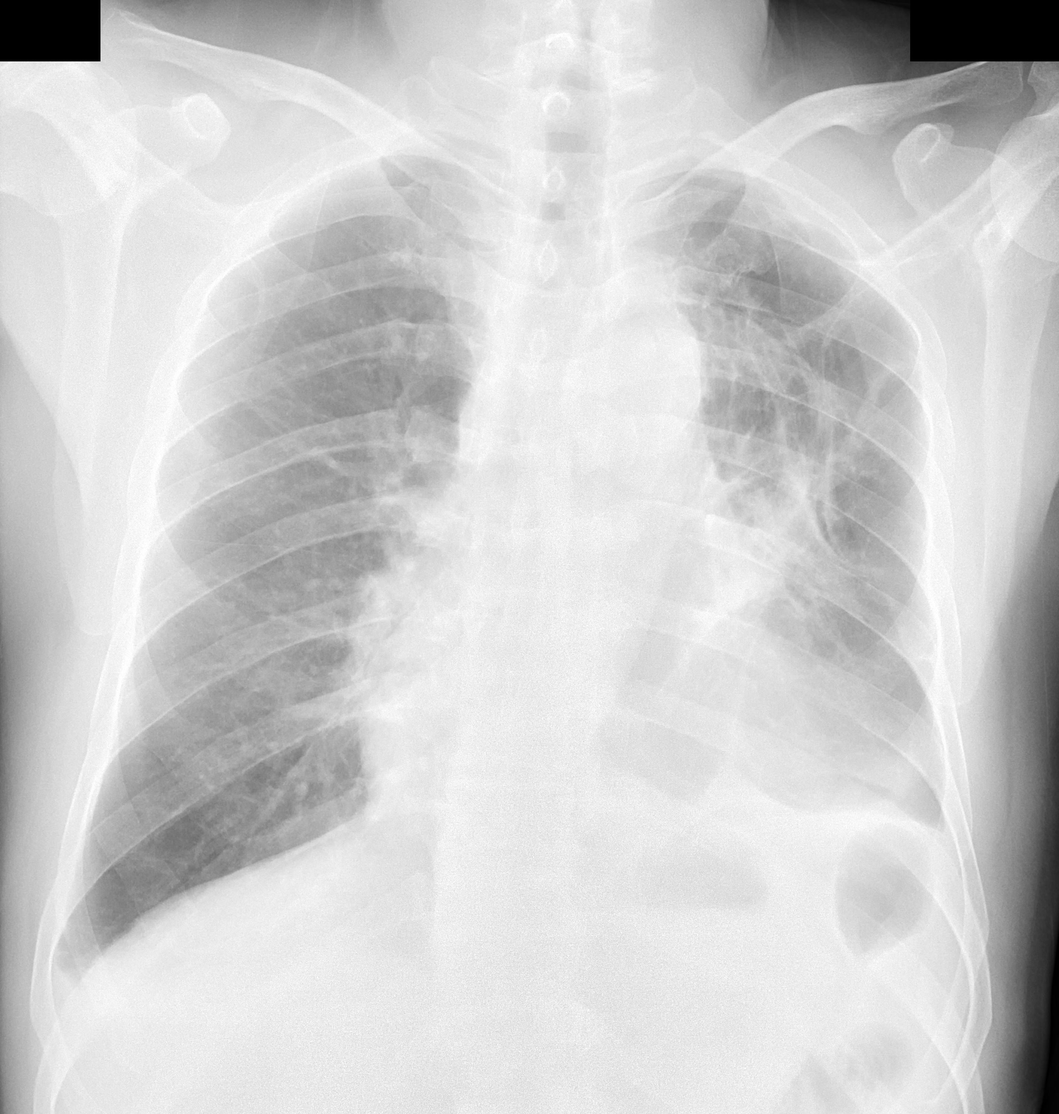Aortic enlargement: (557, 291, 705, 450)
Cardiomegaly: (354, 683, 844, 843)
Pleural thickening: (676, 487, 825, 802), (32, 924, 94, 1029), (911, 765, 969, 868)
Pulmonary fibrosis: (662, 204, 935, 650)
